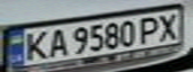0: (118, 17, 139, 47)
5: (87, 21, 109, 52)
8: (103, 20, 124, 50)
9: (69, 24, 90, 55)
A: (45, 26, 69, 59)
K: (18, 29, 51, 62)
P: (136, 14, 166, 44)
X: (154, 11, 184, 40)
